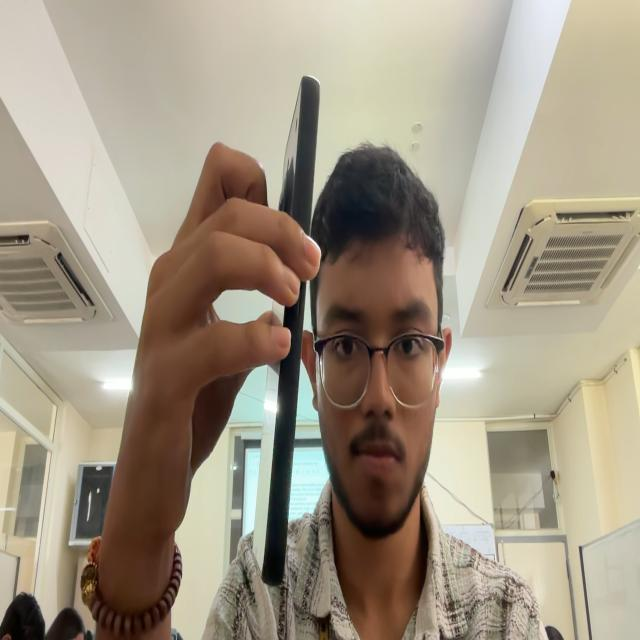Useful: (253, 280, 305, 585), (278, 76, 320, 233)
